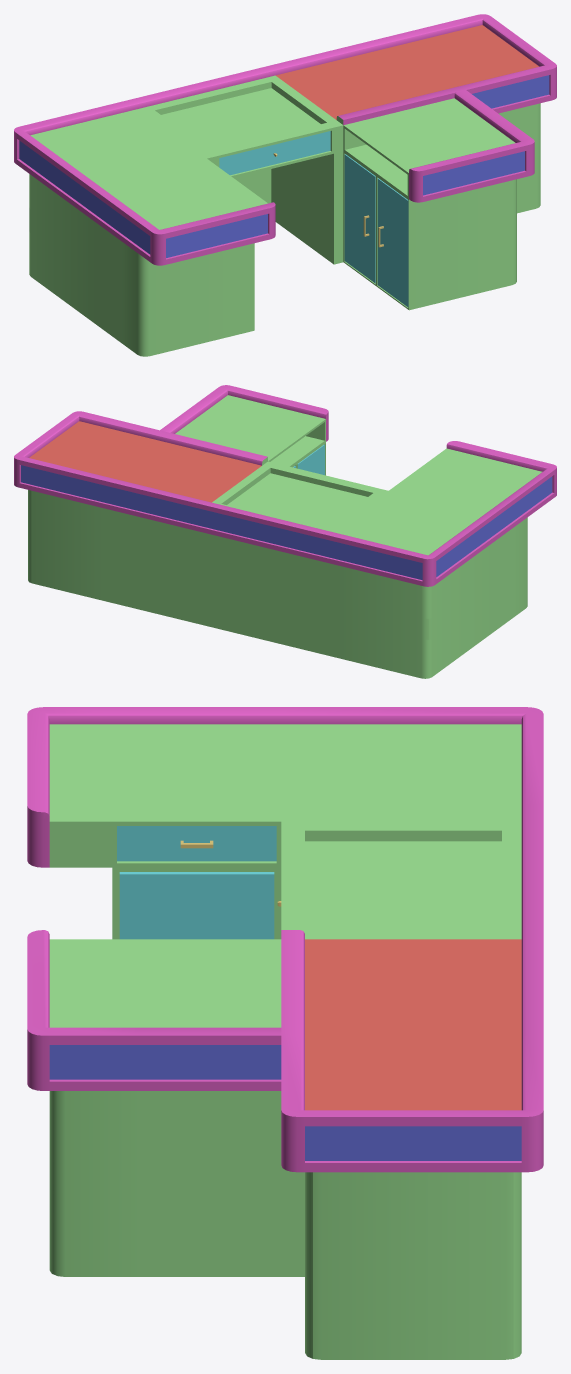
Rendered from BillingDesk.fbx.
3 renders of one model, top to bottom at view 1: azimuth 30°, elevation 25°; view 2: azimuth 150°, elevation 25°; view 3: azimuth 270°, elevation 25°, orthographic. The views are drawn at different scales.
Visible parts, largest first — view 1: BillingDesk; view 2: BillingDesk; view 3: BillingDesk.
Boxes of the visible parts, left/top/right/bottom form: BillingDesk: left=14, top=14, right=556, bottom=356; BillingDesk: left=14, top=385, right=556, bottom=678; BillingDesk: left=27, top=707, right=543, bottom=1359.
Size of the model in its own units: 418 by 120 by 223.
